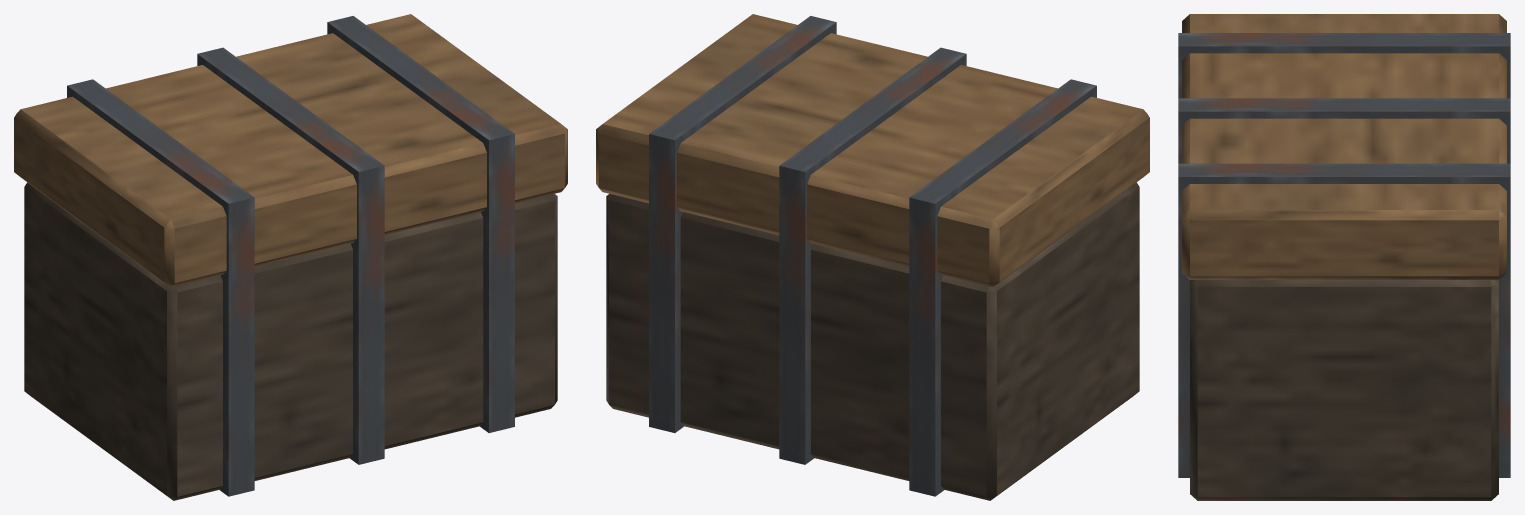
The model's file is SM_ReinforcedChest.fbx.
The picture shows the model from 3 angles, left to right: view 1: azimuth 30°, elevation 25°; view 2: azimuth 150°, elevation 25°; view 3: azimuth 270°, elevation 25°; orthographic projection. The views are drawn at different scales.
Visible parts, largest first — view 1: SM_ReinforcedChest; view 2: SM_ReinforcedChest; view 3: SM_ReinforcedChest.
Part boxes in pixels (x1=…): SM_ReinforcedChest: x1=14, y1=14, x2=567, y2=500; SM_ReinforcedChest: x1=596, y1=14, x2=1149, y2=500; SM_ReinforcedChest: x1=1178, y1=14, x2=1510, y2=500.
Bounding box in the file's own units: 6.2 × 4.3 × 4.3.
1 material, 1 textured.
